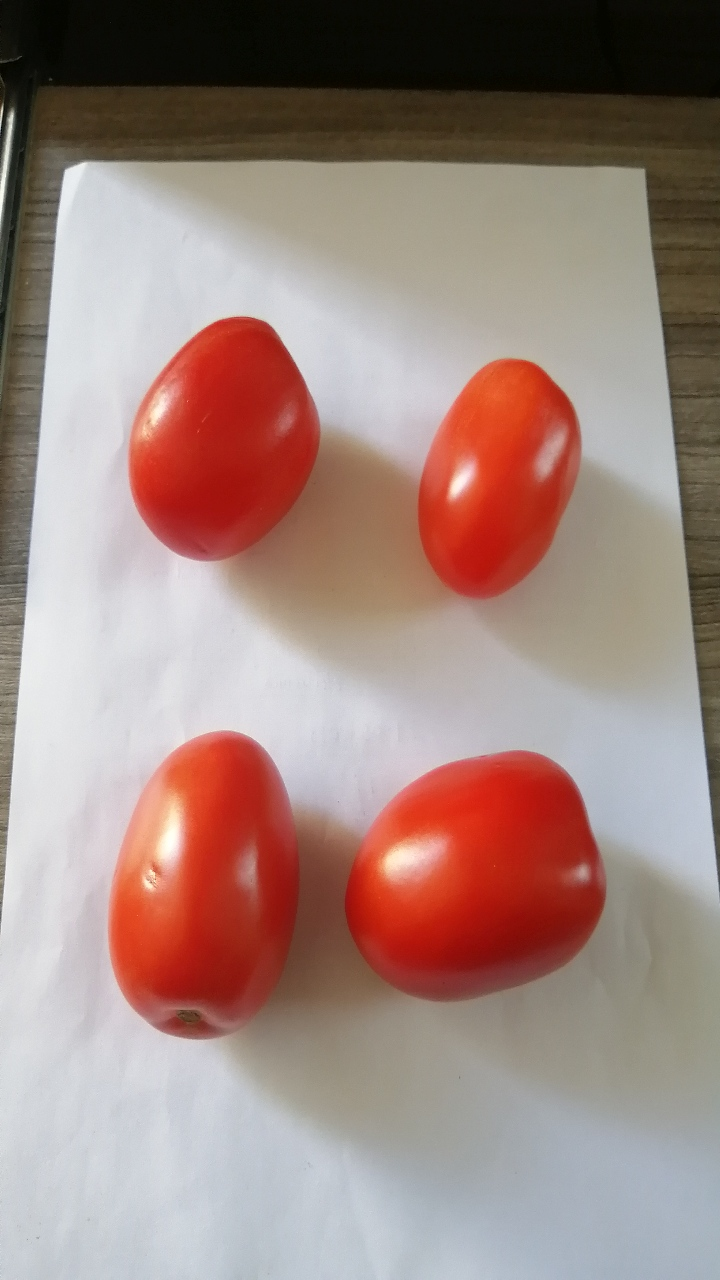tomateRojo: (338, 726, 631, 1031), (84, 712, 321, 1077), (97, 289, 337, 575), (383, 331, 586, 619)
